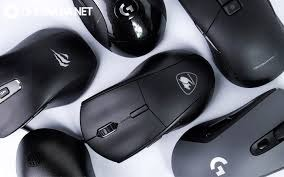mouse: (60, 60, 211, 162), (0, 0, 88, 139), (179, 0, 284, 88), (179, 91, 284, 177)
